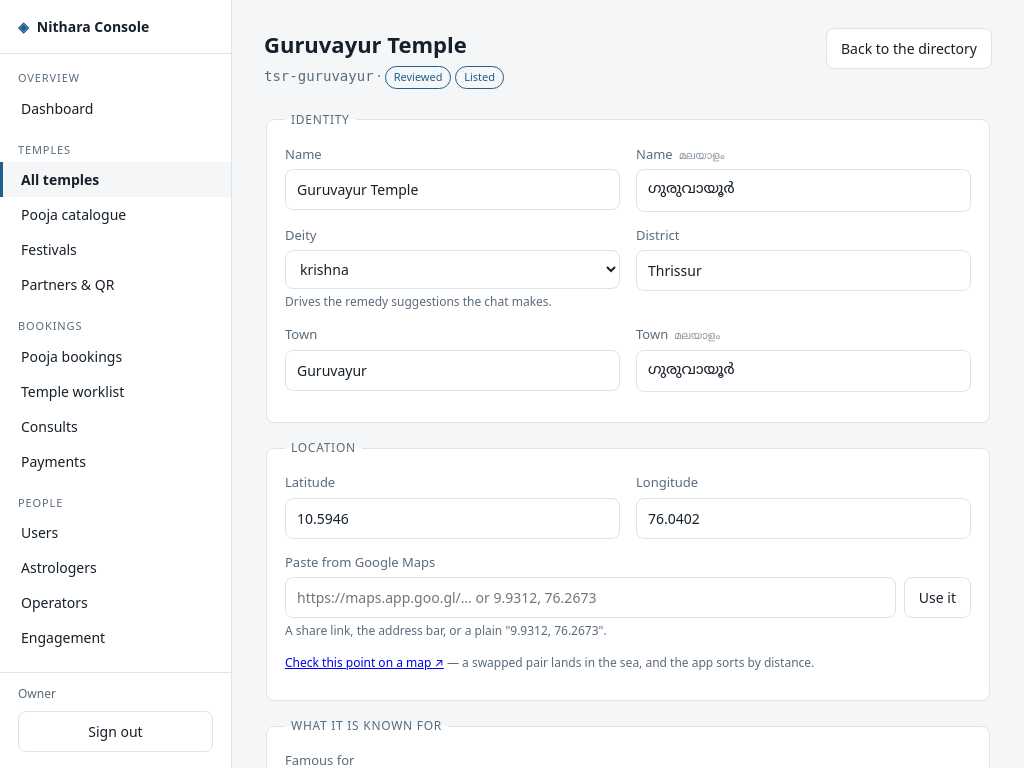
the editor › rejects a paste with no coordinates in it
Type "https://maps.app.goo.gl/AbCdEf" into the field labelled "Paste from Google Maps". click: (590, 598)
box: 285,577 -> 896,618
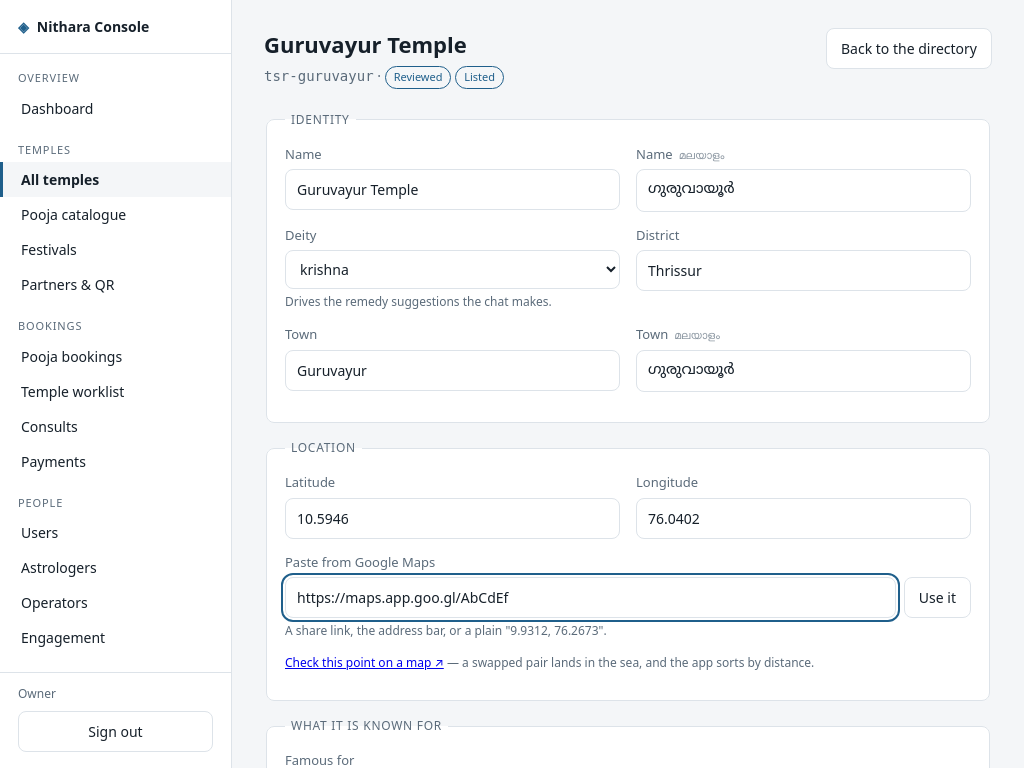
Click the button "Use it". click: (937, 598)
box: 904,577 -> 971,618
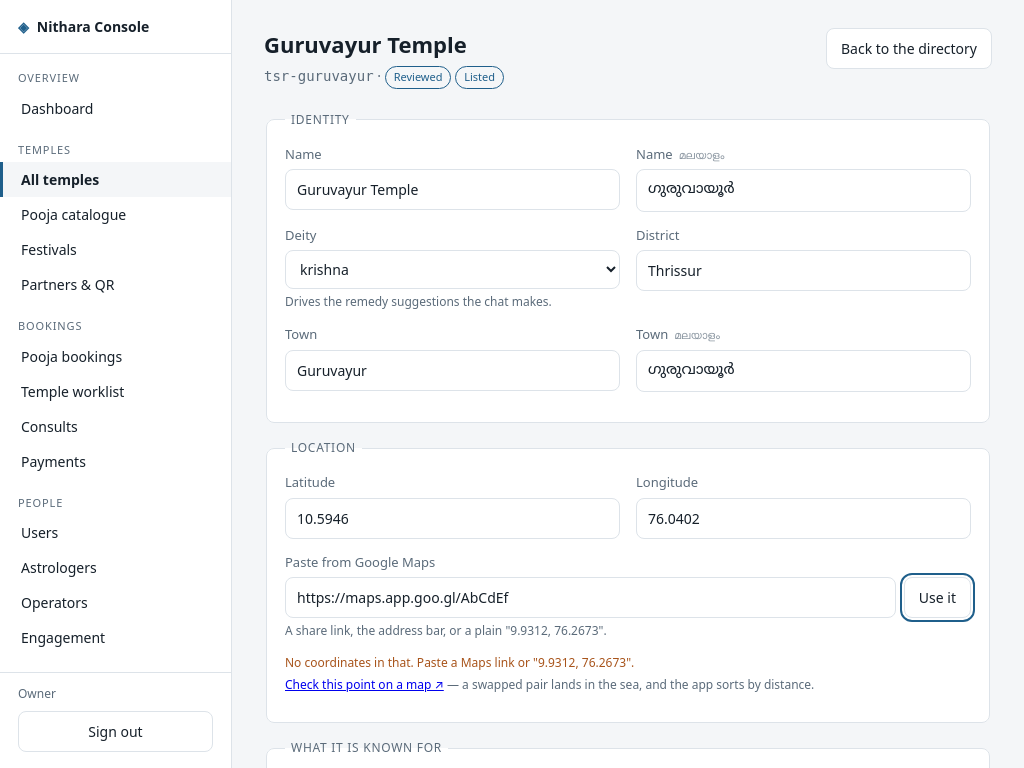
expect the field showing "10.5946" is shown: met, box 285,498 -> 620,538
expect the text "No coordinates in that" is shown: met, box 285,654 -> 634,671
